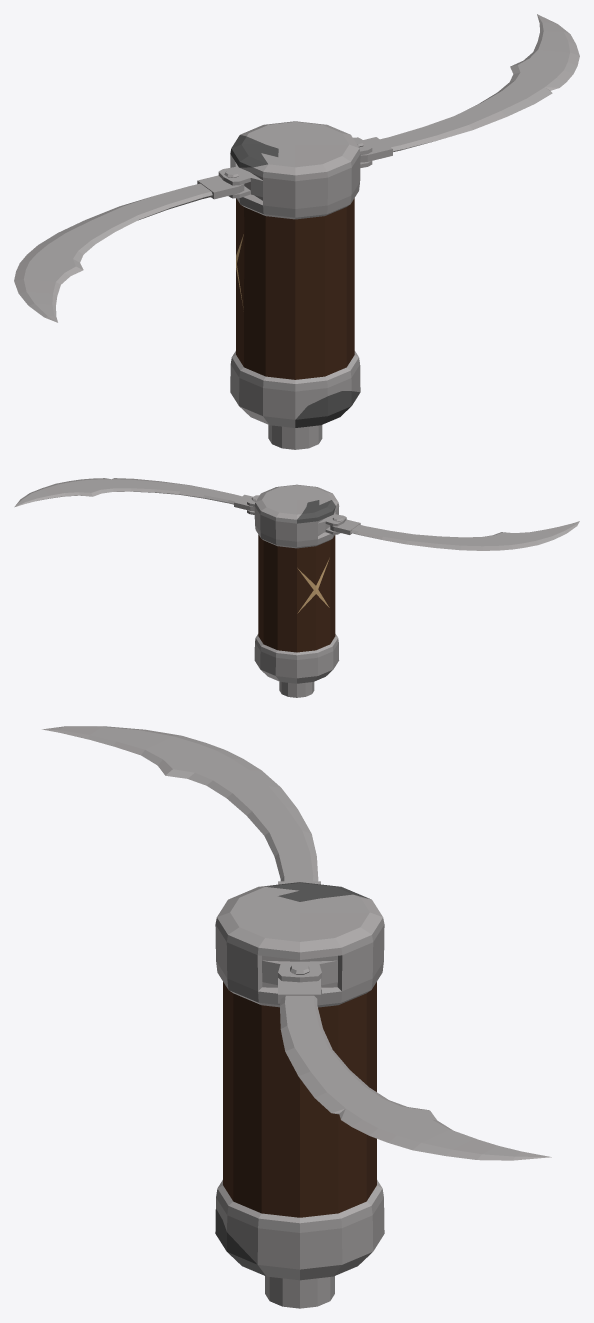
File: SMLBladeSpinning_1.fbx
3 renders of one model, top to bottom at view 1: azimuth 30°, elevation 25°; view 2: azimuth 150°, elevation 25°; view 3: azimuth 270°, elevation 25°, orthographic. The views are drawn at different scales.
Visible parts, largest first — view 1: SMLBladeSpinning_1; view 2: SMLBladeSpinning_1; view 3: SMLBladeSpinning_1.
Boxes of the visible parts, x1,y1,x2,y2 form: SMLBladeSpinning_1: [14, 14, 579, 449]; SMLBladeSpinning_1: [14, 478, 579, 697]; SMLBladeSpinning_1: [42, 726, 551, 1308].
Bounding box in the file's own units: 281 × 115 × 140.
